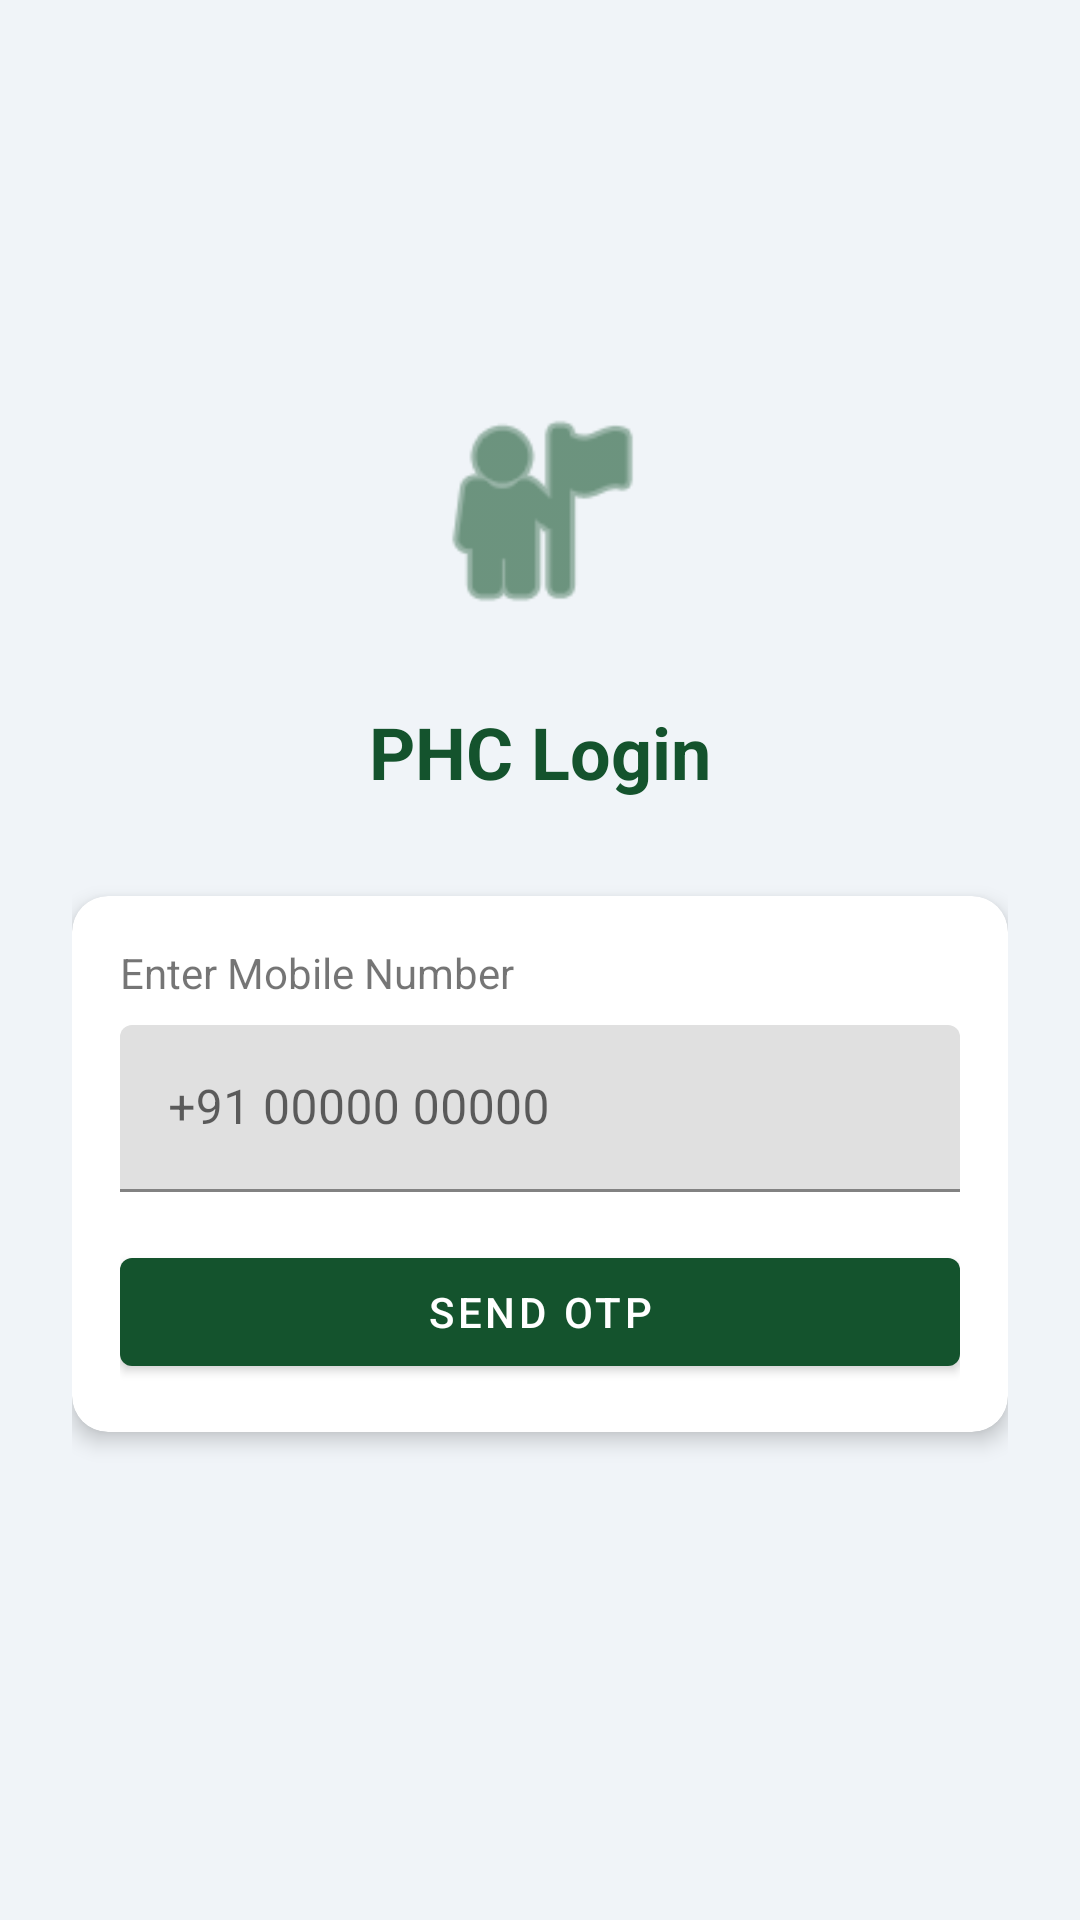

Icons on this 1080px×1920px Android screen, each with its box as (x1,y1,x2,y2):
myplaces: (452,421,633,601)
